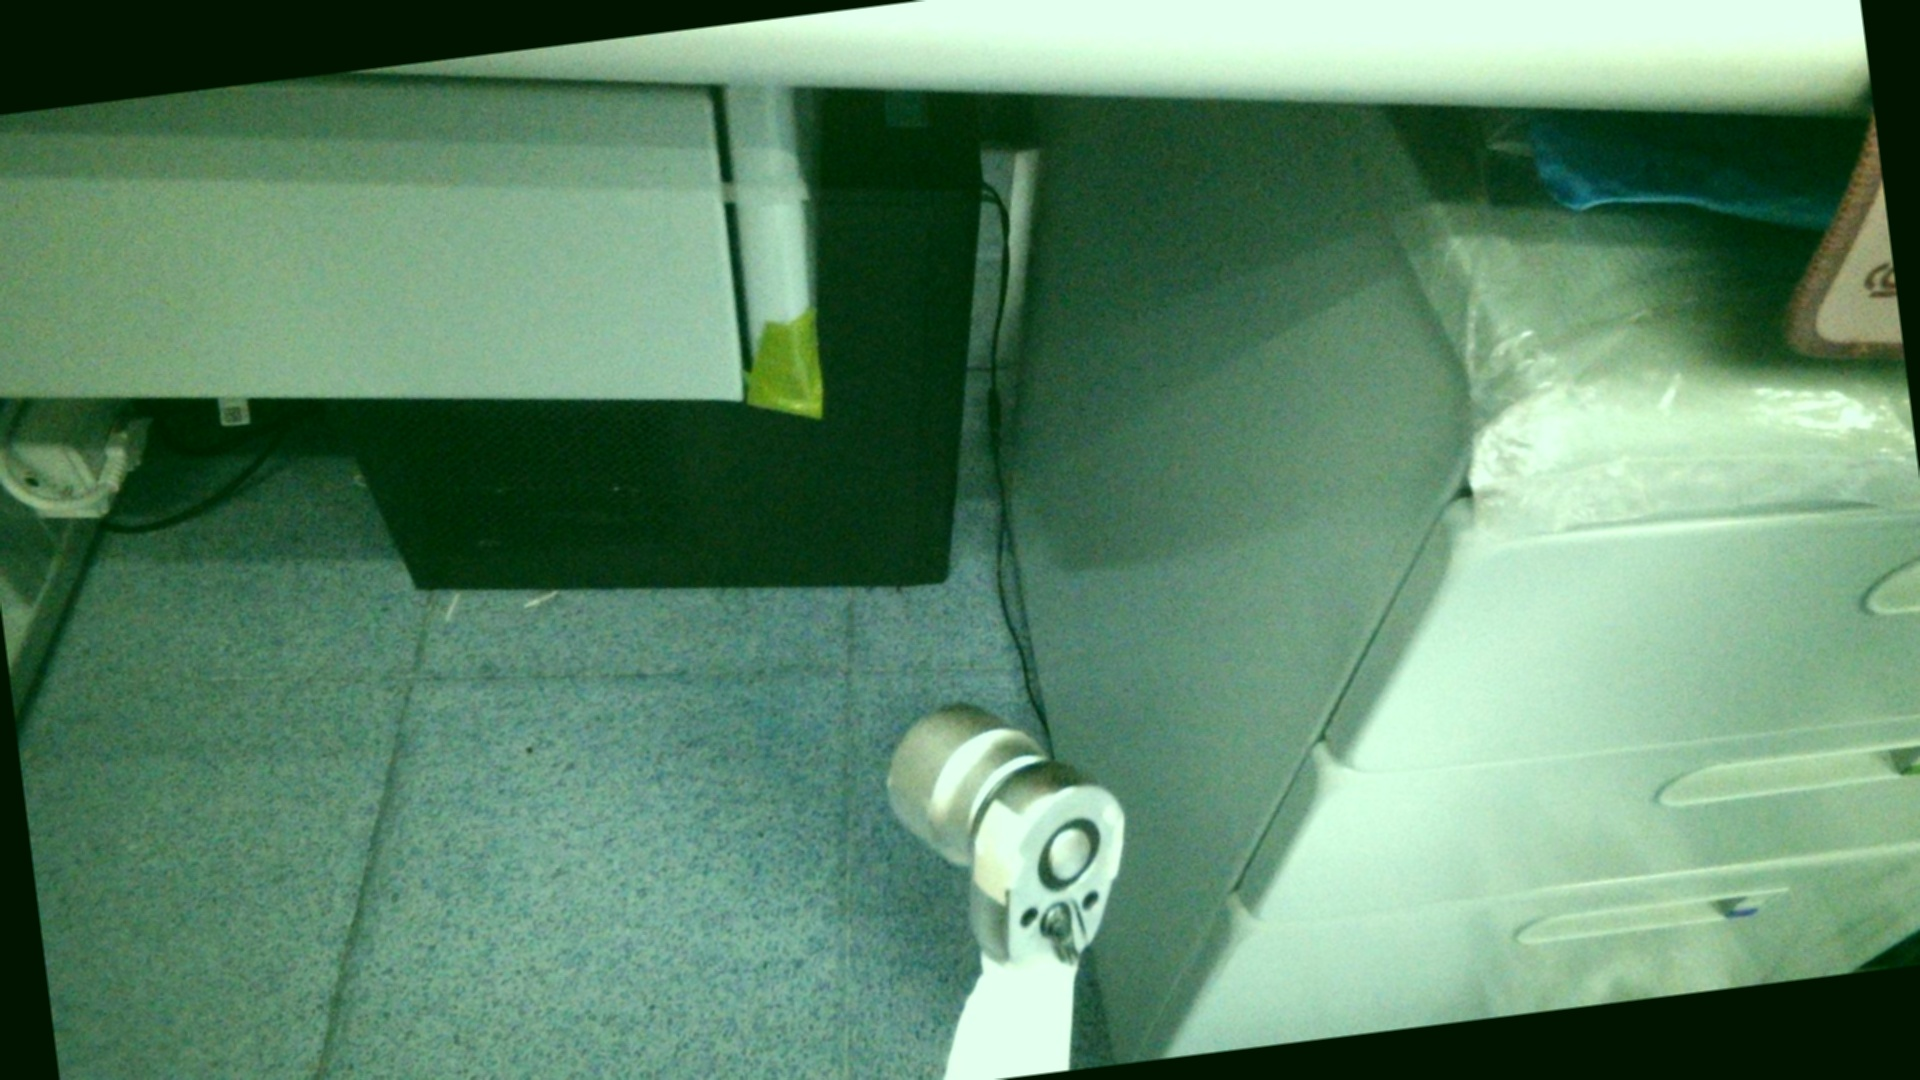wrench: (1031, 812, 1102, 893)
